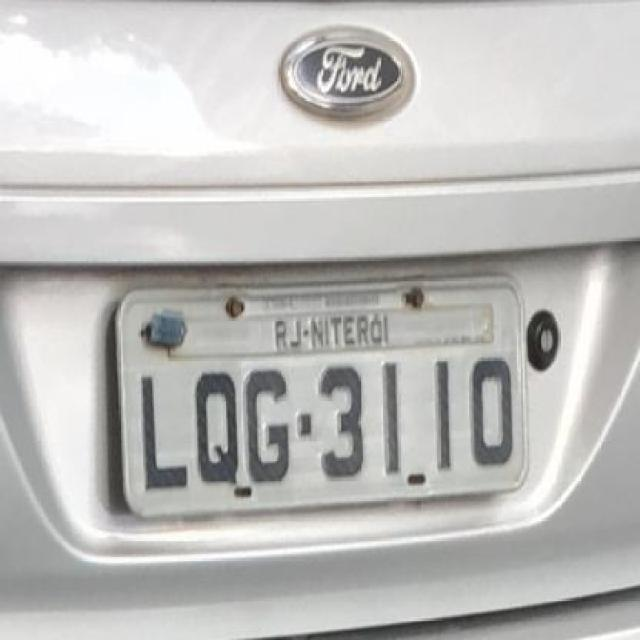old_plate: (107, 265, 535, 530)
